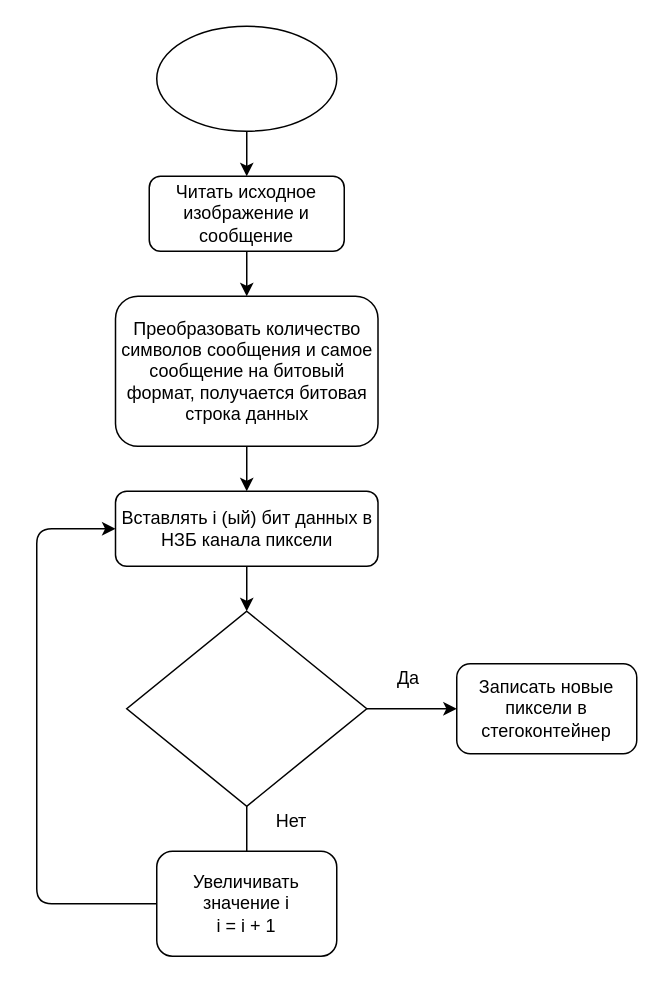
The diagram is 663 pixels wide and 983 high, and some of its shapes have lost their labels. The box of each missing label's shape, as (x1, y1, x2, y2) in pixels:
i (ый) бит является последним бит данных: (125, 610, 367, 806)
Начало программы: (155, 25, 337, 131)
